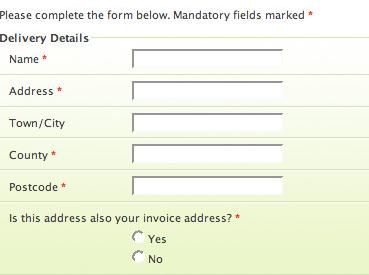field: (130, 174, 284, 197), (130, 48, 284, 70), (131, 113, 286, 133), (131, 80, 285, 100), (131, 143, 285, 163)
field_with_label: (9, 46, 286, 71), (9, 173, 286, 198), (8, 79, 287, 101), (9, 112, 288, 134), (10, 142, 286, 164)
radio: (131, 229, 147, 244), (132, 249, 145, 263)
radio_with_label: (129, 227, 166, 245), (130, 248, 162, 264)
